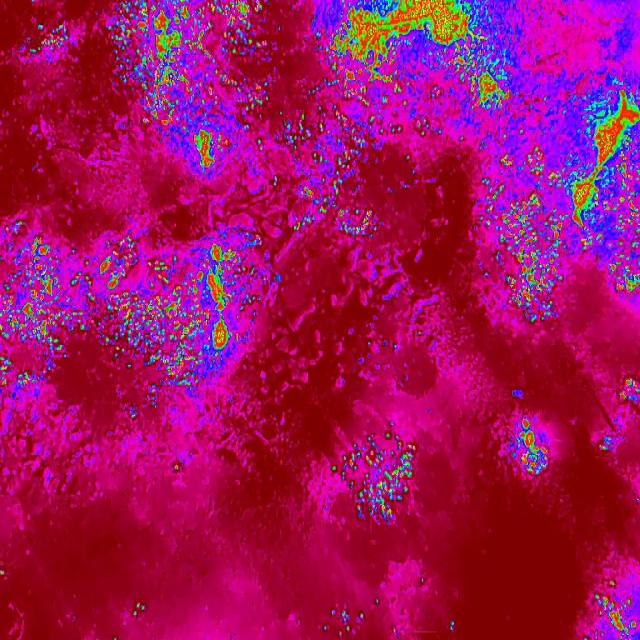fire: (0, 200, 255, 412), (480, 63, 640, 327), (104, 0, 271, 179), (270, 101, 444, 238), (316, 2, 522, 116), (324, 428, 420, 532), (500, 412, 550, 486), (590, 575, 640, 640), (28, 14, 82, 65), (321, 596, 383, 636), (617, 369, 640, 415), (600, 428, 624, 458)
